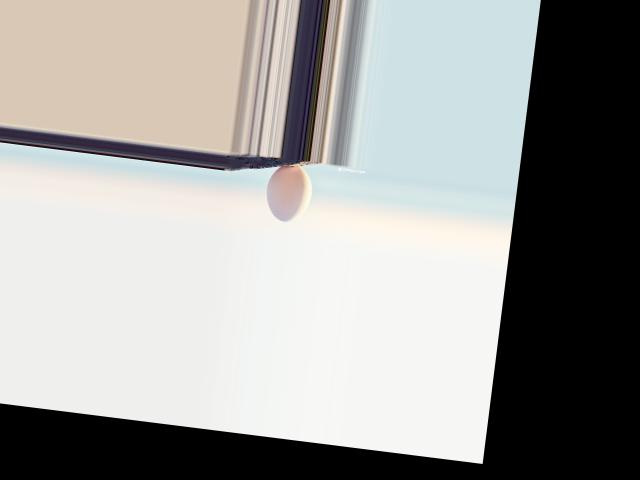egg: (263, 162, 315, 224)
